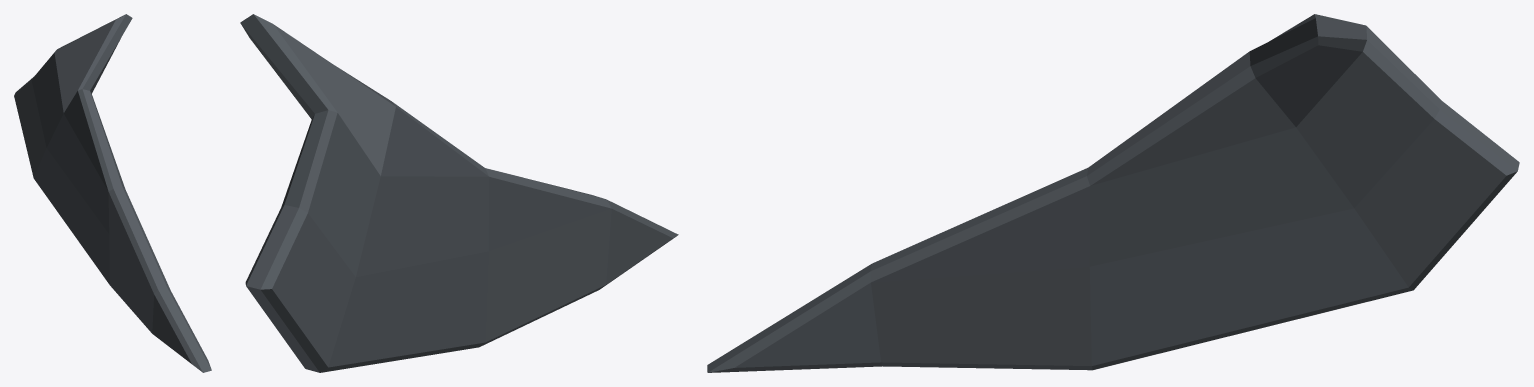
The model's file is Personal_Vehicle_01_Side_Frame_Right.fbx.
The picture shows the model from 3 angles, left to right: view 1: azimuth 30°, elevation 25°; view 2: azimuth 150°, elevation 25°; view 3: azimuth 270°, elevation 25°; orthographic projection. The views are drawn at different scales.
Parts seen in each view (by area): view 1: Personal_Vehicle_01_Side_Frame_Right; view 2: Personal_Vehicle_01_Side_Frame_Right; view 3: Personal_Vehicle_01_Side_Frame_Right.
Boxes of the visible parts, x1,y1,x2,y2 form: Personal_Vehicle_01_Side_Frame_Right: (14,14,211,372); Personal_Vehicle_01_Side_Frame_Right: (240,14,678,372); Personal_Vehicle_01_Side_Frame_Right: (707,14,1519,372).
Size of the model in its own units: 26.57 by 59.38 by 103.
1 material, 1 textured.
